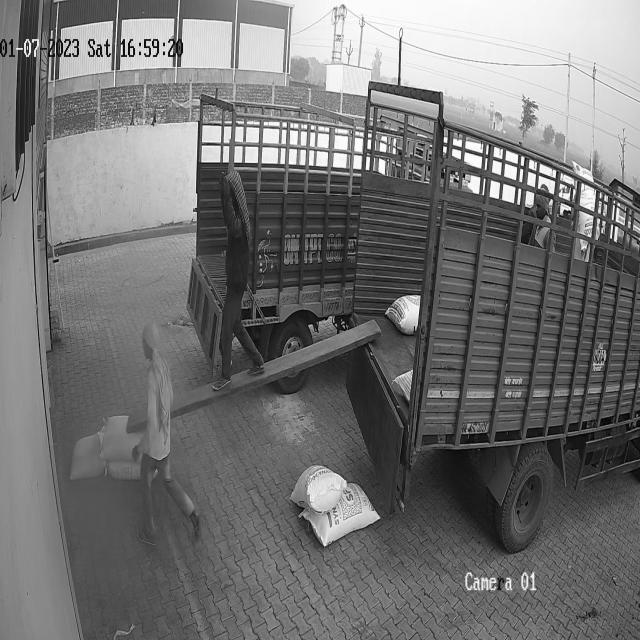sack: (298, 480, 379, 548), (290, 464, 346, 514), (99, 416, 143, 464), (68, 432, 107, 480)
